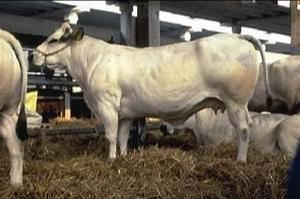cow: (30, 18, 271, 163)
